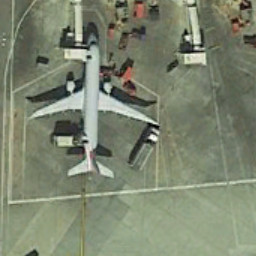Airplane: (15, 27, 162, 202)
